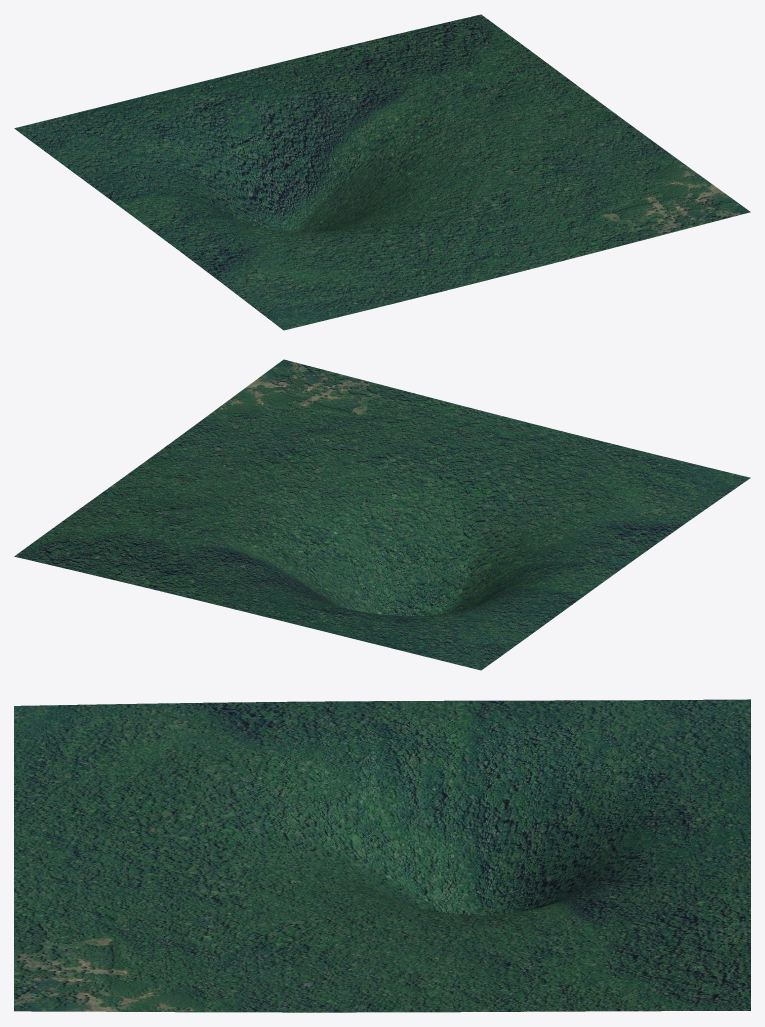
Rendered from terrain_real_T_W01_S05.glb.
3 renders of one model, top to bottom at view 1: azimuth 30°, elevation 25°; view 2: azimuth 150°, elevation 25°; view 3: azimuth 270°, elevation 25°, orthographic. The views are drawn at different scales.
Visible parts, largest first — view 1: Terrain_Real_DEM_T_W01_S05; view 2: Terrain_Real_DEM_T_W01_S05; view 3: Terrain_Real_DEM_T_W01_S05.
Boxes of the visible parts, box(x1,y1,x2,y2) form: Terrain_Real_DEM_T_W01_S05: box(14, 14, 750, 330); Terrain_Real_DEM_T_W01_S05: box(14, 359, 750, 670); Terrain_Real_DEM_T_W01_S05: box(14, 699, 750, 1012).
Bounding box in the file's own units: 2000 × 343 × 2000.
1 material, 1 textured.
